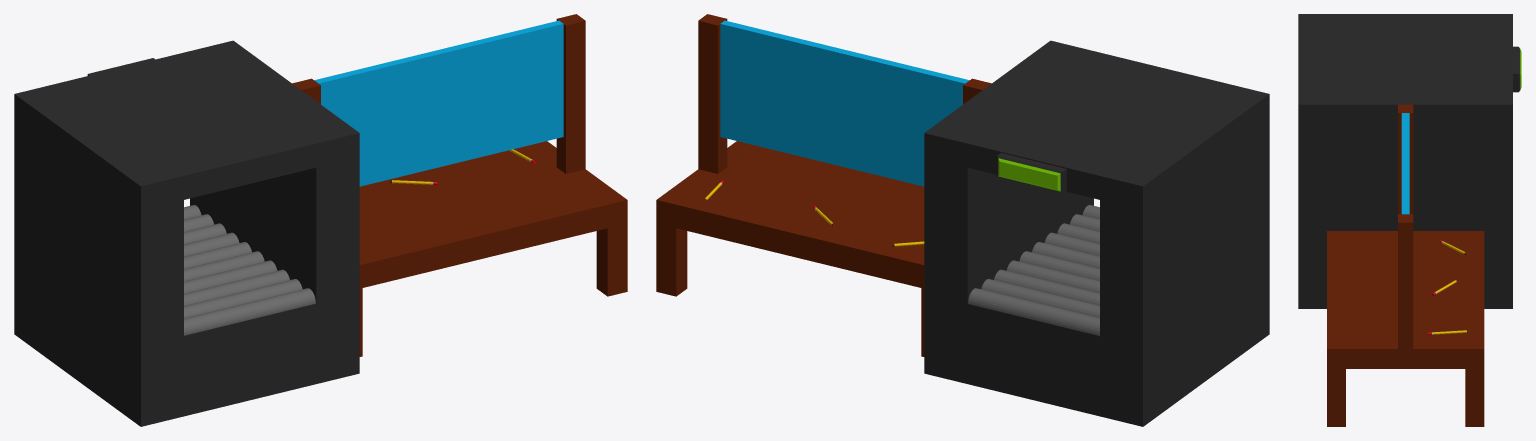
The model's file is Table.fbx.
3 renders of one model, left to right at view 1: azimuth 30°, elevation 25°; view 2: azimuth 150°, elevation 25°; view 3: azimuth 270°, elevation 25°, orthographic. The views are drawn at different scales.
Parts seen in each view (by area): view 1: Cabin, Table; view 2: Cabin, Table; view 3: Cabin, Table, Pencil.
Part boxes in pixels (box(x1,y1,x2,y2)): Cabin: box(14, 40, 359, 426); Table: box(292, 14, 627, 356); Cabin: box(924, 40, 1269, 426); Table: box(656, 14, 991, 356); Cabin: box(1298, 14, 1521, 308); Table: box(1327, 104, 1484, 426); Pencil: box(1428, 240, 1469, 334).
Size of the model in its own units: 460 by 210 by 208.
